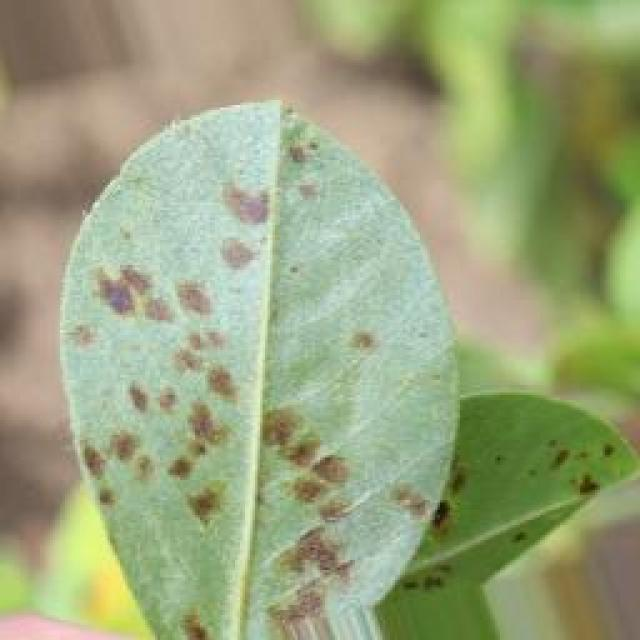Whitefly: (53, 107, 640, 601)
